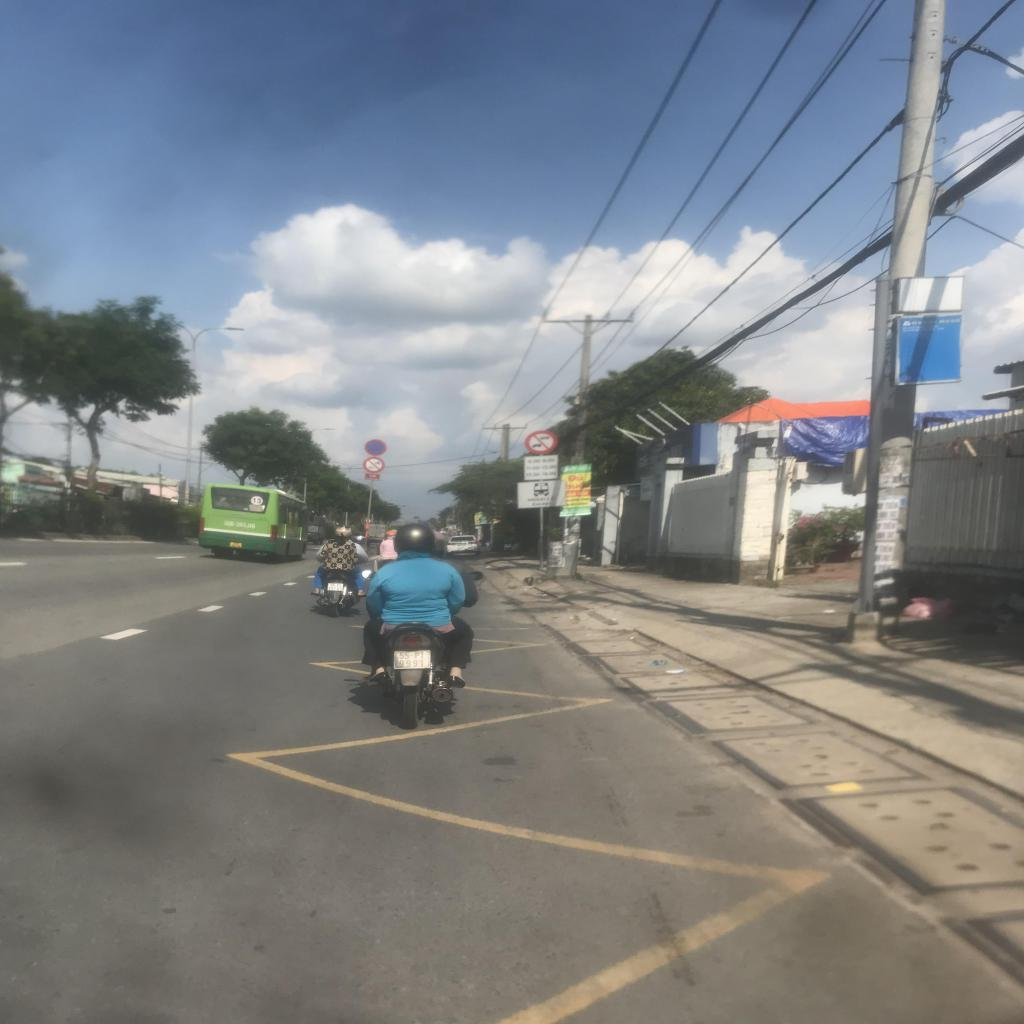cam_dung_xe_va_do_xe: (364, 440, 388, 456)
cam_o_to_tai_va_xe_khach: (525, 430, 559, 454)
cam_xe_2_banh_va_xe_3_banh_co_dong_co: (362, 456, 385, 474)
khac: (518, 480, 566, 509), (524, 455, 558, 480)
